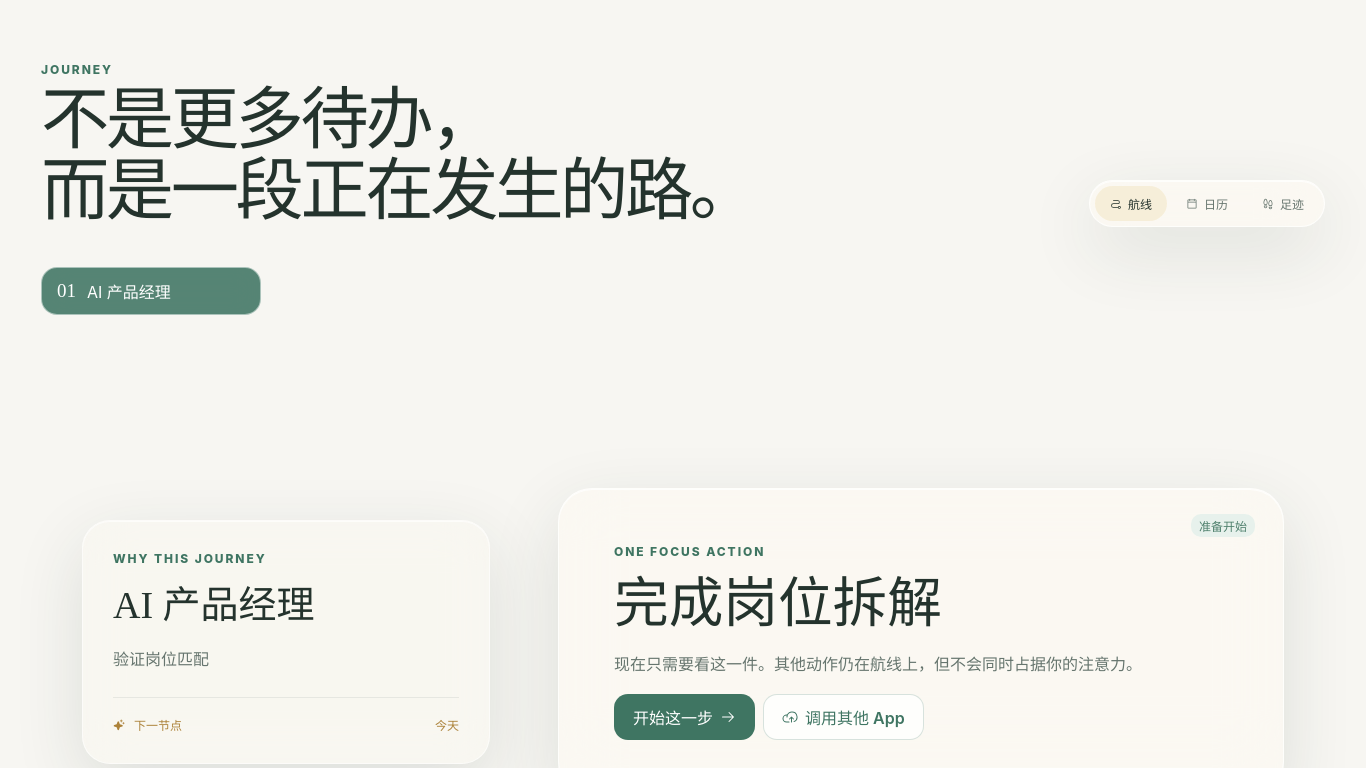
Test case: Journey › uses path as the default view and can switch to calendar
This screenshot has width=1366, height=768.
Expected: the heading "完成岗位拆解" is shown, [614,573,942,634]
Click the button "日历" at (1207, 204), box [1171,186,1243,221]
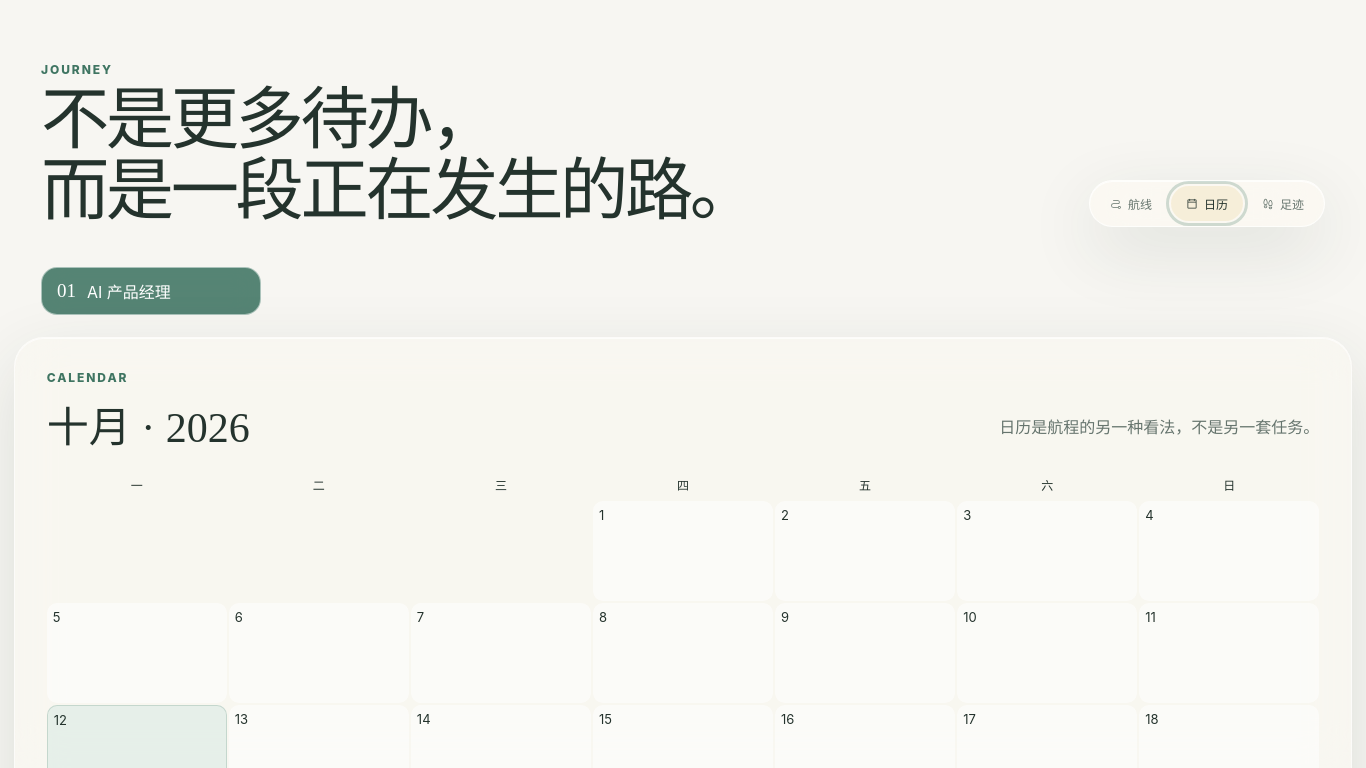
Now the heading "十月 · 2026" is shown, box [47,393,250,454]
